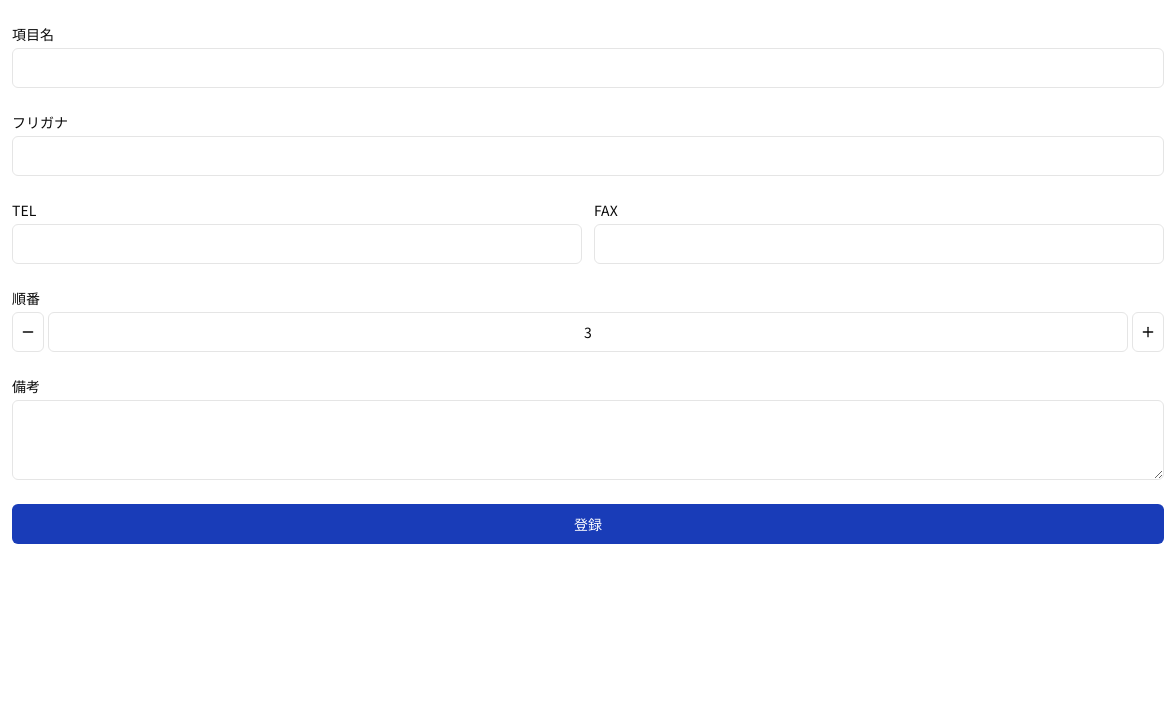
Scenario: MasterInputArea の新規登録 › 登録済みの名前を入力すると警告が出て登録できない
Type "大丸商事" into the field labelled "項目名" at (588, 68), box 12,48 -> 1164,88
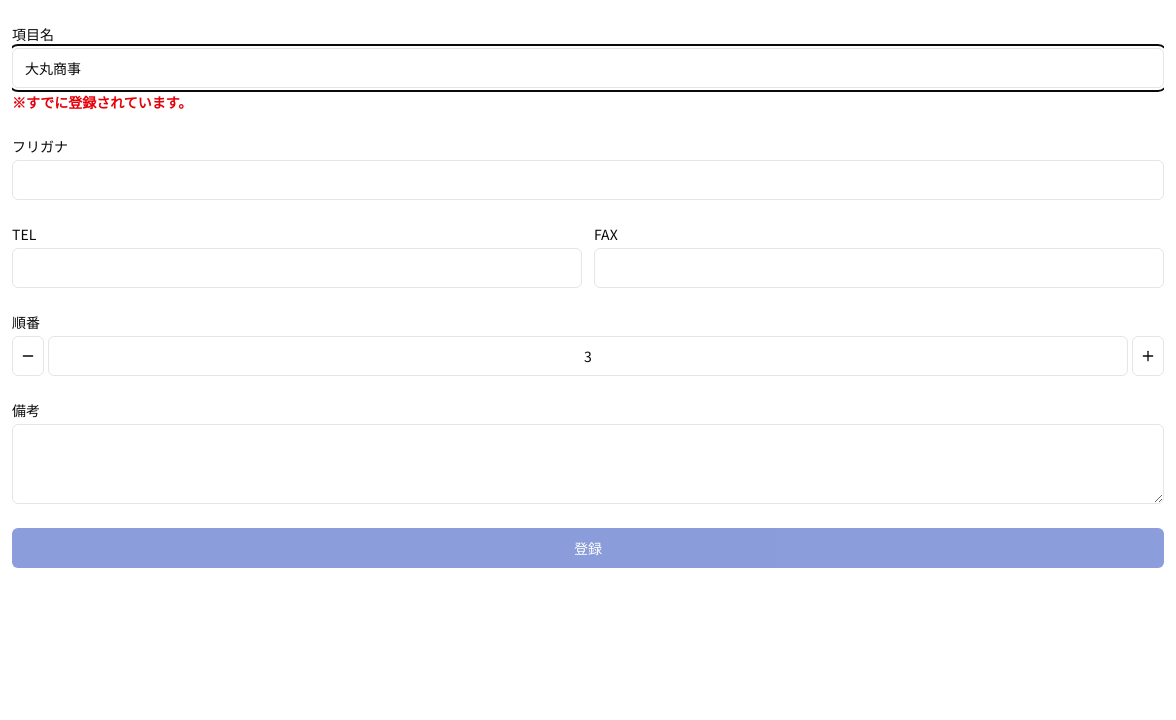
Check: the text "※すでに登録されています。" is shown, box 12,92 -> 192,112
Check: the button "登録" is disabled, box 12,528 -> 1164,568
